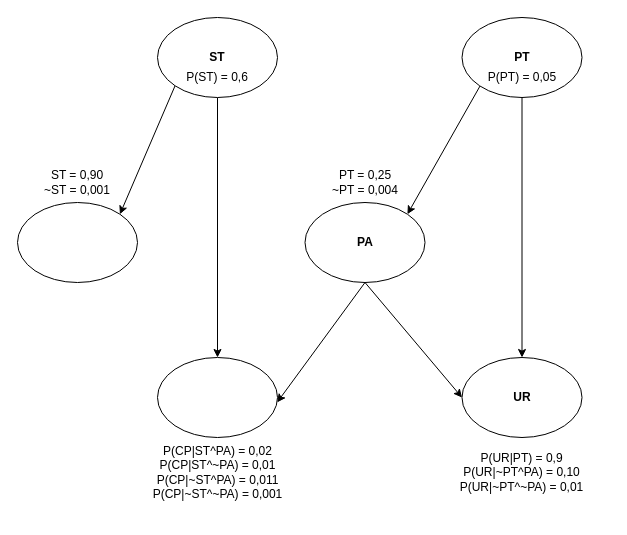
The diagram is 627 pixels wide and 535 high, and some of its shapes have lost their labels. Here are the shapes that lost their labels. From the top down, the centre of each, then its label:
At [77,242]: "CnL".
At [217,397]: "CP".
